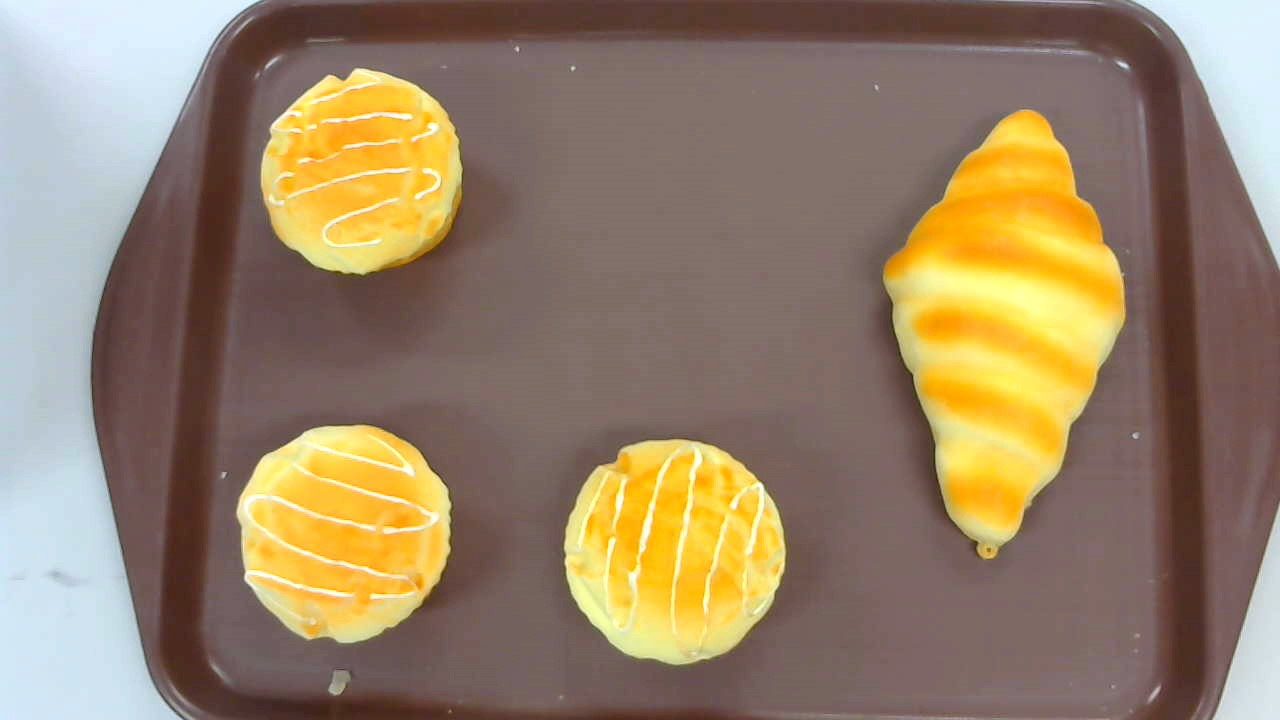croissant: (883, 109, 1126, 559)
cupcake: (562, 437, 786, 668), (236, 424, 453, 644), (260, 66, 463, 276)
